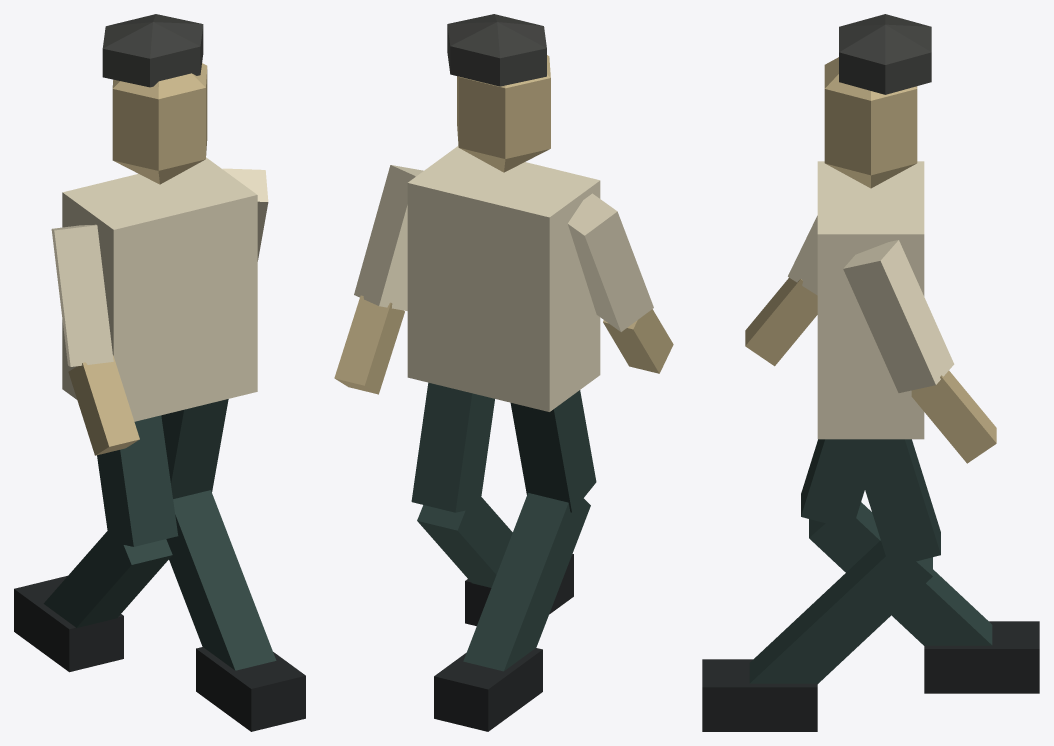
File: TownResident2.obj
The picture shows the model from 3 angles, left to right: view 1: azimuth 30°, elevation 25°; view 2: azimuth 150°, elevation 25°; view 3: azimuth 270°, elevation 25°; orthographic projection. The views are drawn at different scales.
Parts seen in each view (by area): view 1: TownResident2; view 2: TownResident2; view 3: TownResident2.
Part boxes in pixels (x1,y1,x2,y2): TownResident2: (14,14,305,731); TownResident2: (334,14,673,731); TownResident2: (702,14,1039,731).
Bounding box in the file's own units: 0.7047 × 1.81 × 0.82.
1 material, 1 textured.
